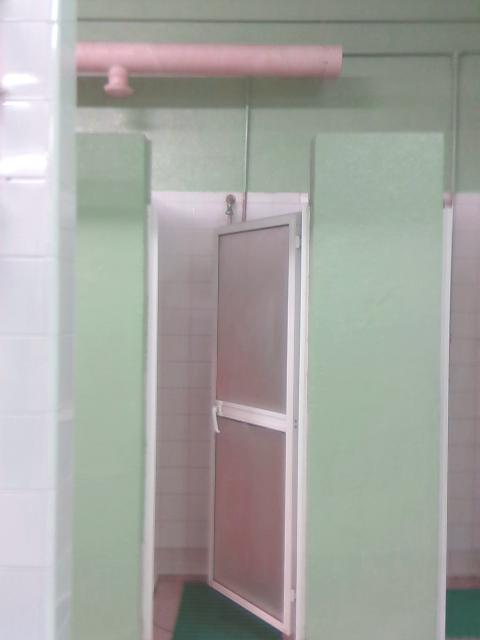semi_door: (140, 180, 315, 639)
